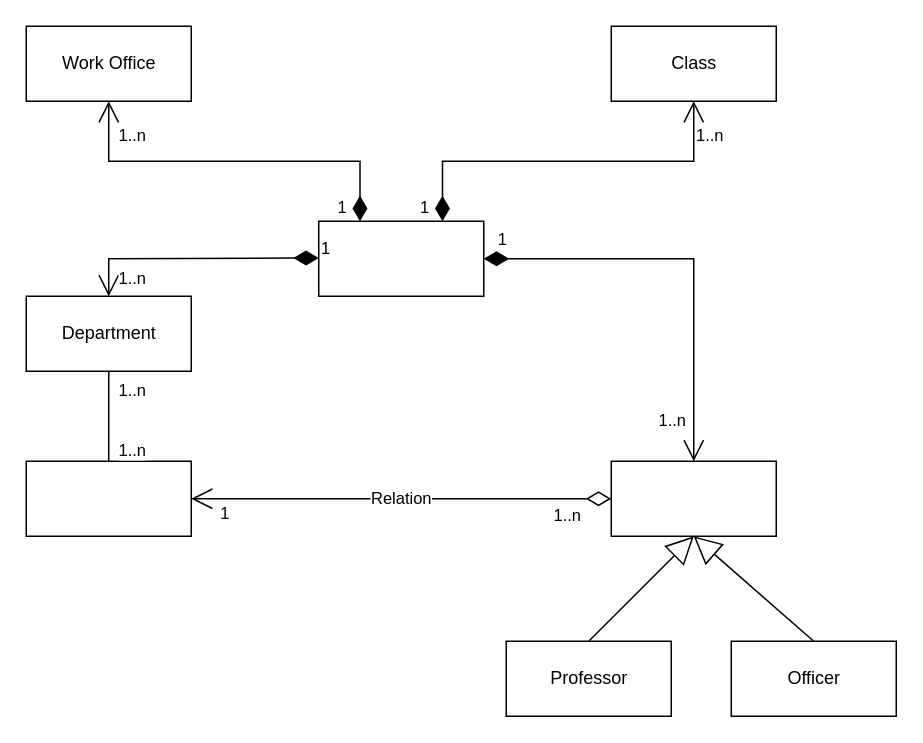
The diagram is 923 pixels wide and 743 high, and some of its shapes have lost their labels. Here are the shapes that lost their labels. From the top down, the centre of each, then its label:
At point (400, 258): "University".
At point (108, 498): "Office".
At point (693, 498): "Employee".
